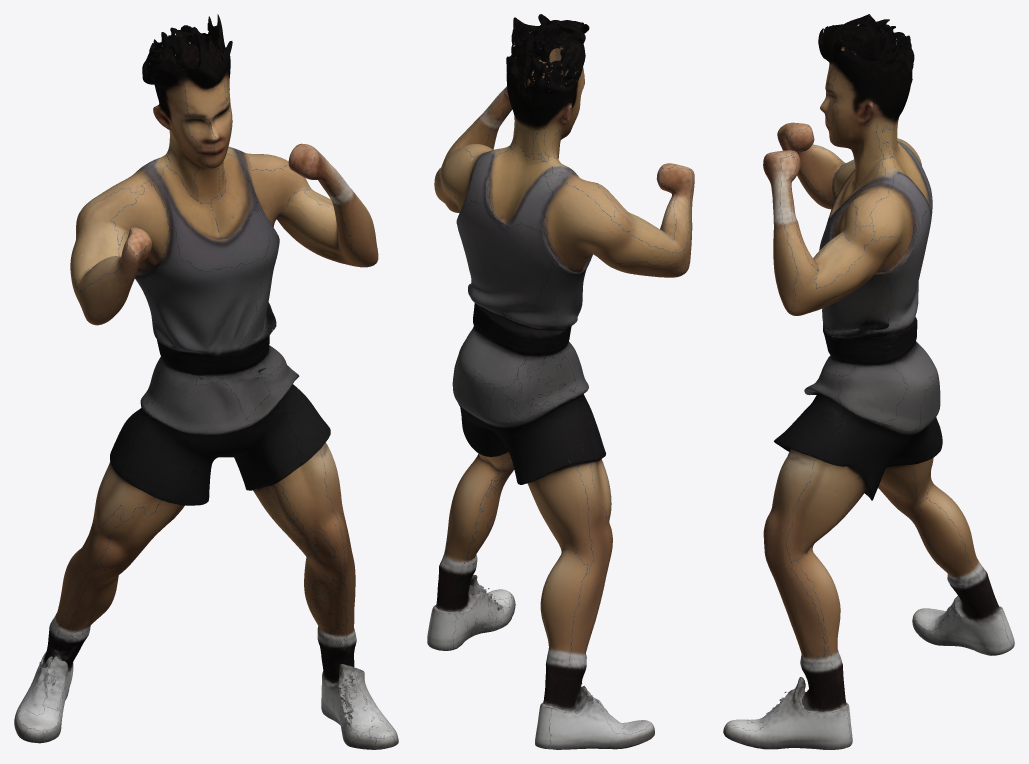
The model's file is trellis2-concept2-high.xatlas.glb.
3 renders of one model, left to right at view 1: azimuth 30°, elevation 25°; view 2: azimuth 150°, elevation 25°; view 3: azimuth 270°, elevation 25°, orthographic. The views are drawn at different scales.
Parts seen in each view (by area): view 1: world; view 2: world; view 3: world.
Part boxes in pixels (<box>): world: <box>14,14,398,749</box>; world: <box>427,14,694,749</box>; world: <box>723,14,1014,749</box>.
Size of the model in its own units: 0.4224 by 0.999 by 0.3933.
1 material, 1 textured.
